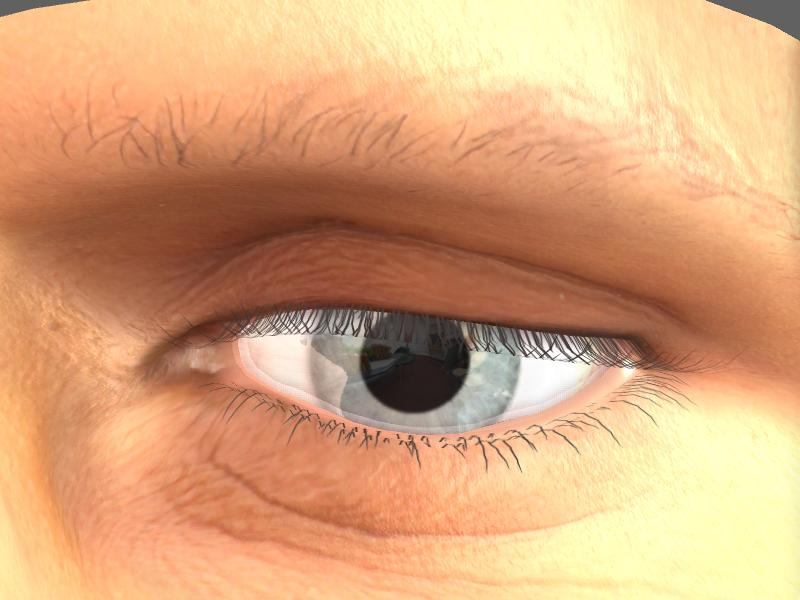eye: (305, 304, 523, 428)
